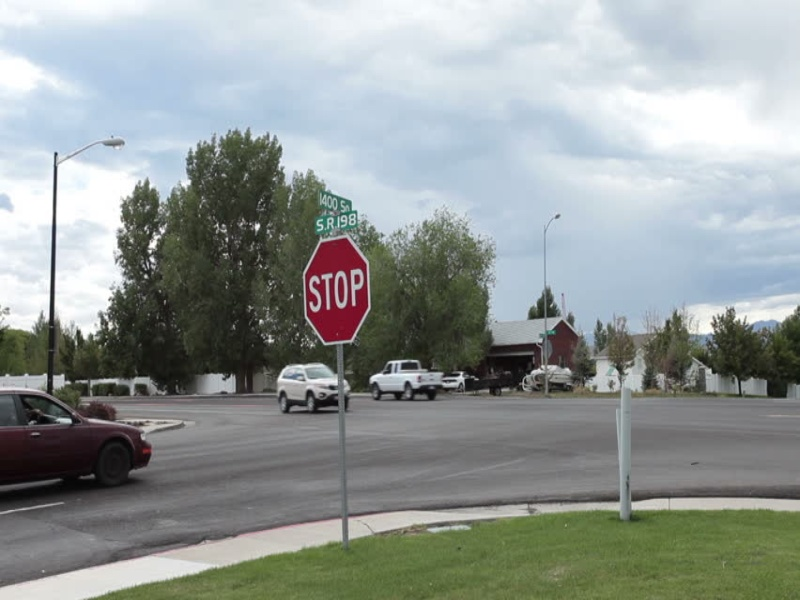stop sign: (297, 232, 374, 350)
